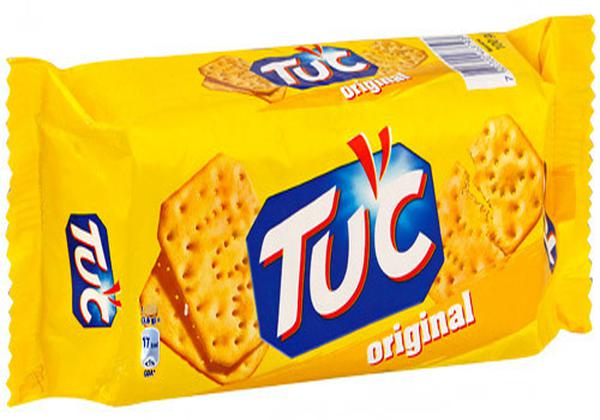crackers tuc: (34, 16, 599, 413)
